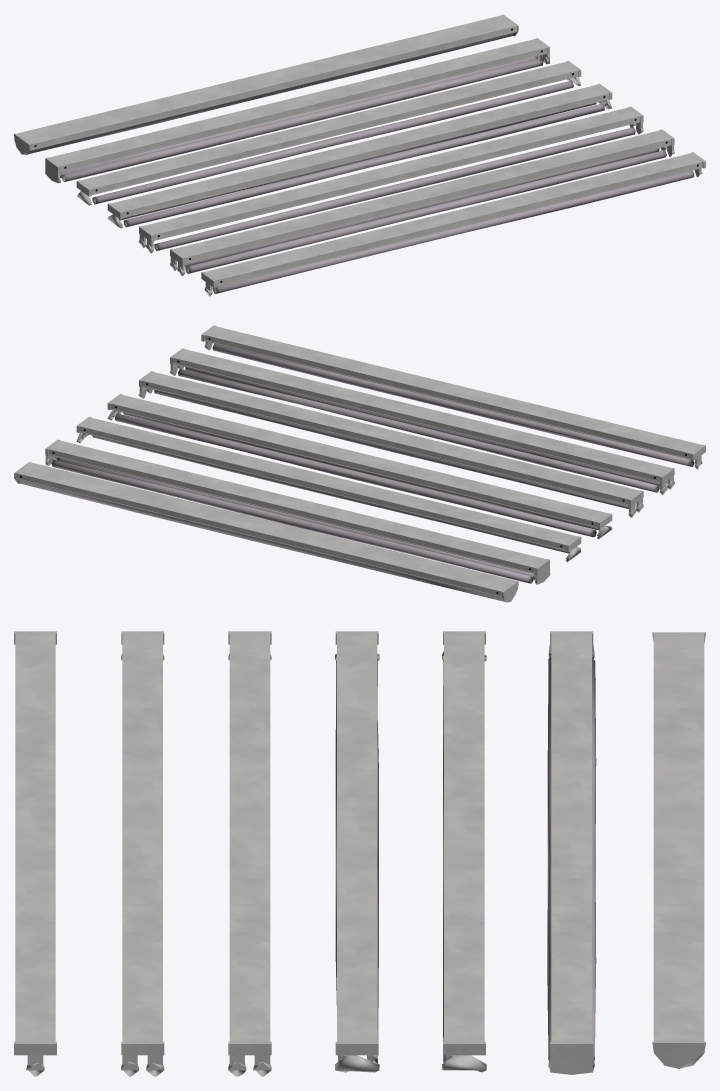
The model's file is mounted_fluorescent_lights.glb.
3 views of the same model, one above another, from view 1: azimuth 30°, elevation 25°; view 2: azimuth 150°, elevation 25°; view 3: azimuth 270°, elevation 25° (orthographic). The views are drawn at different scales.
Parts seen in each view (by area): view 1: mounted_fluorescent_lights_a; view 2: mounted_fluorescent_lights_a; view 3: mounted_fluorescent_lights_a.
Boxes of the visible parts, box(x1,y1,x2,y2) form: mounted_fluorescent_lights_a: box(14, 14, 705, 296); mounted_fluorescent_lights_a: box(14, 325, 705, 602); mounted_fluorescent_lights_a: box(14, 631, 705, 1076).
Size of the model in its own units: 0.9122 by 0.0351 by 0.6453.
2 materials, 2 textured.
